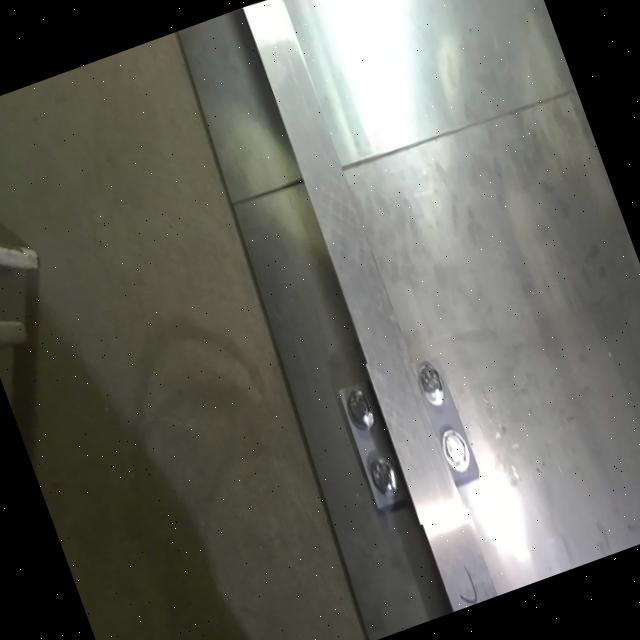blocks: (328, 337, 500, 538)
